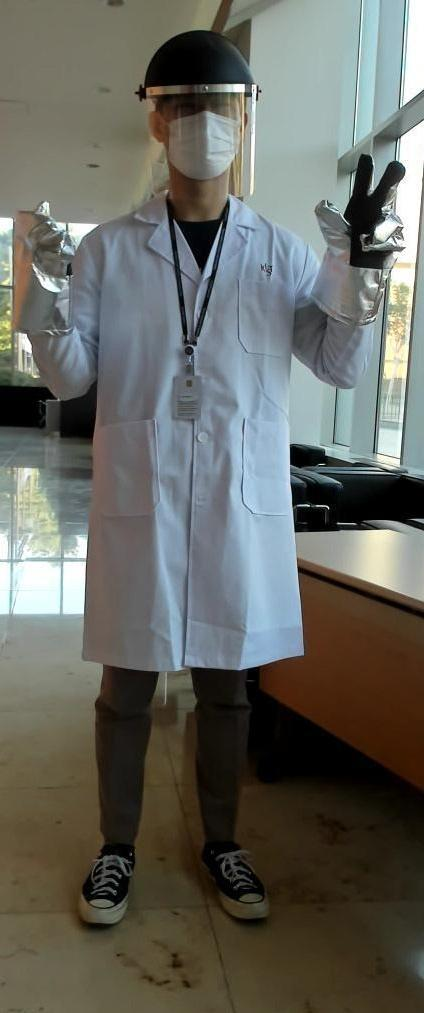lab_coat: (78, 226, 308, 655)
